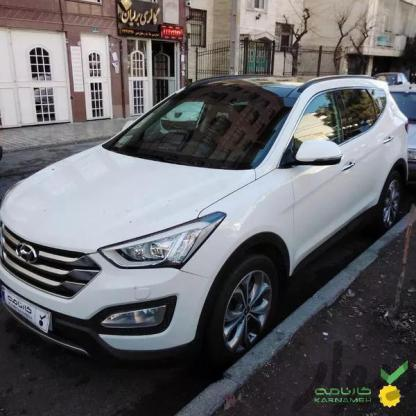Car: (0, 55, 416, 362)
